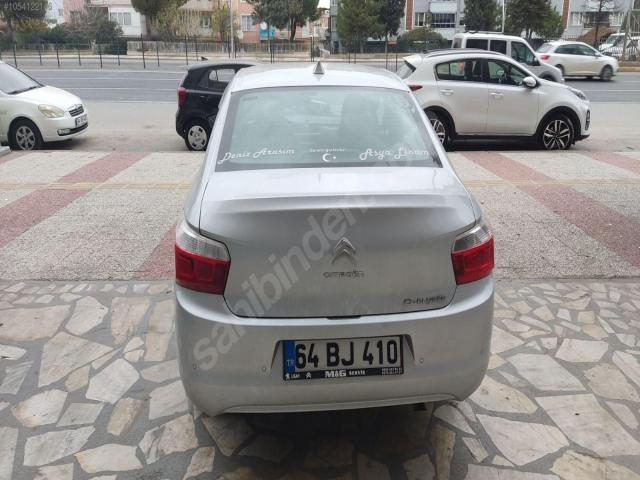plaka: (284, 335, 403, 379)
